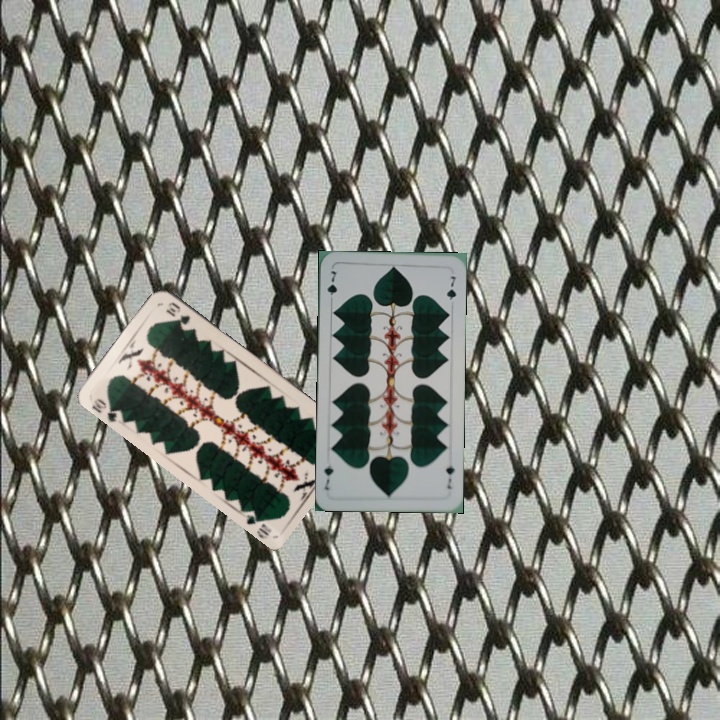G10: (88, 394, 125, 425)
G7: (323, 267, 339, 306), (442, 461, 456, 491)
